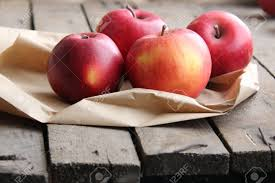apple: (48, 33, 126, 101), (135, 31, 209, 102), (188, 13, 255, 75), (97, 10, 168, 49)
